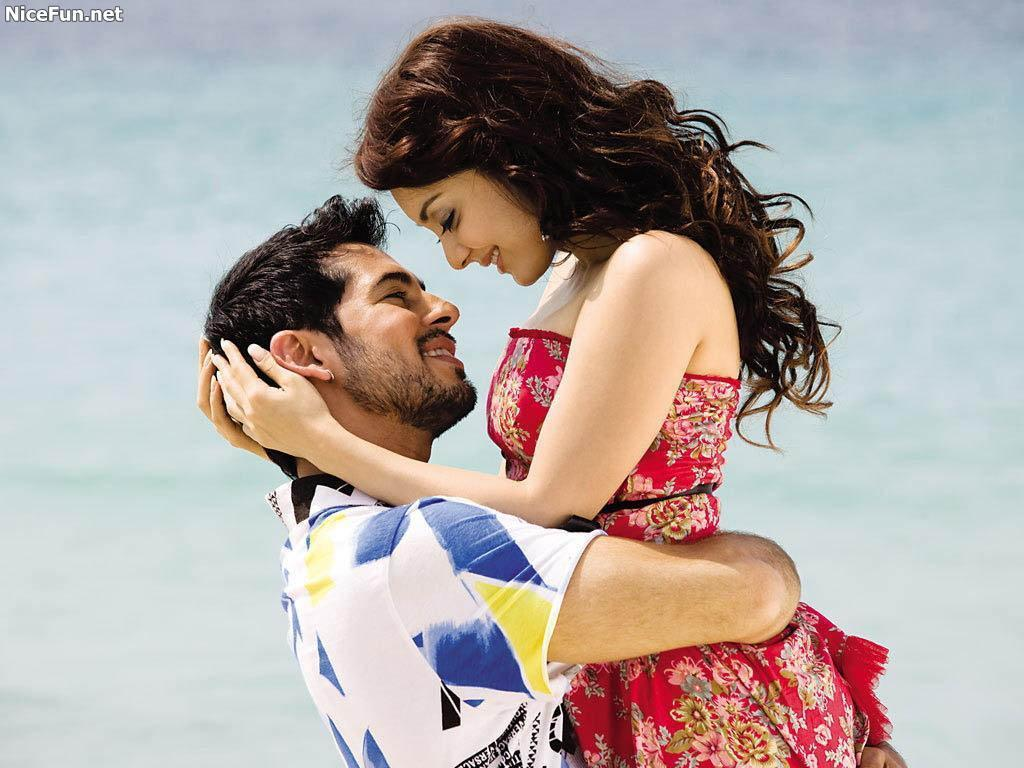face: (316, 248, 478, 414), (382, 144, 558, 284)
